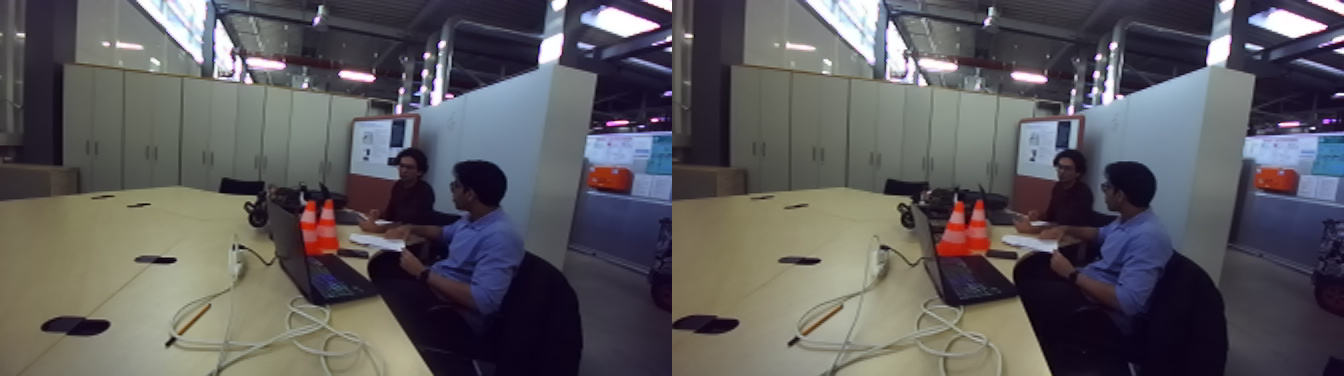cone: (273, 189, 326, 265), (924, 194, 975, 262), (327, 186, 363, 280), (980, 193, 1005, 276)
